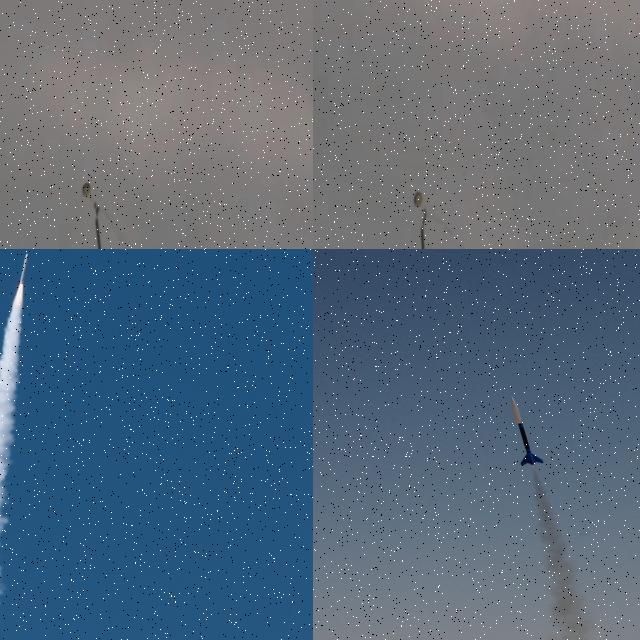Rocket: (511, 395, 544, 466), (17, 253, 29, 285)
